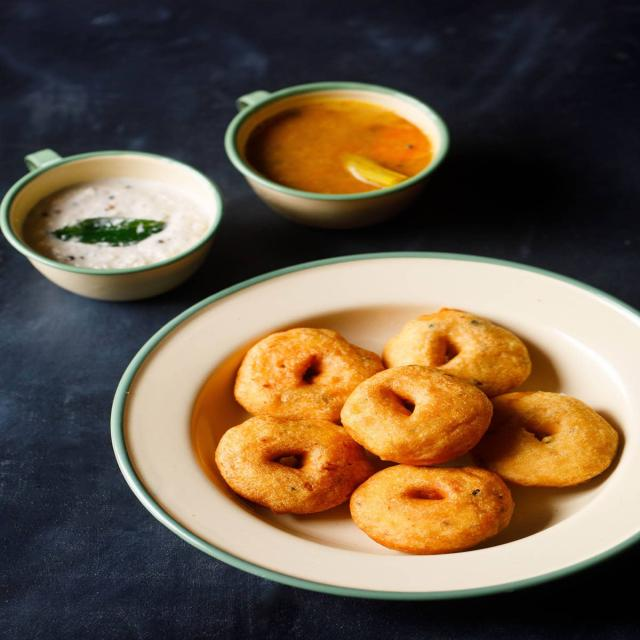MEDU VADA: (191, 306, 635, 558)
